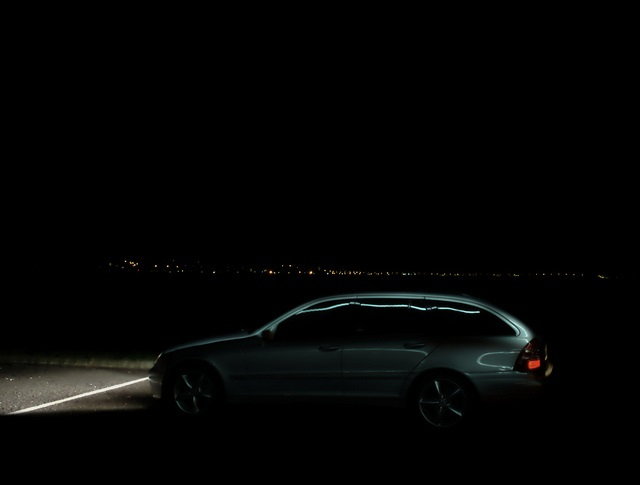car: (145, 290, 572, 434)
